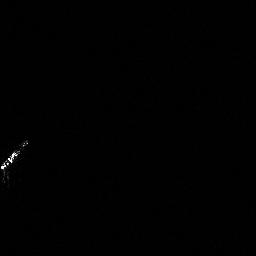ship: (1, 137, 32, 176)
